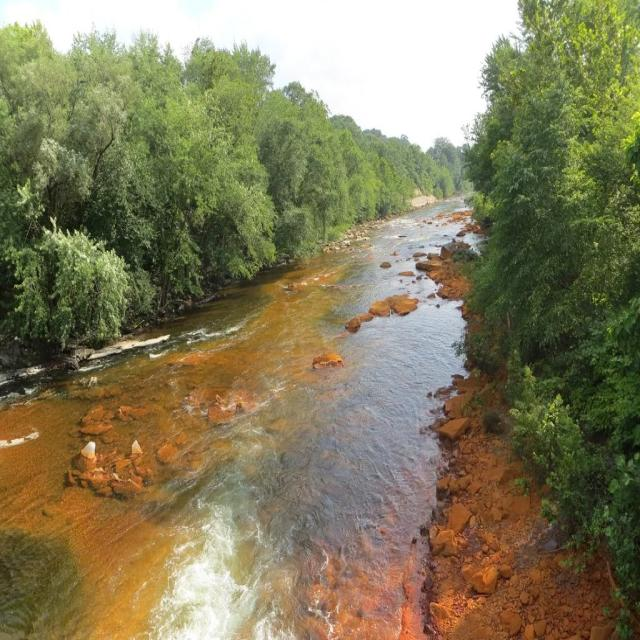yellow_boy: (0, 198, 466, 637)
